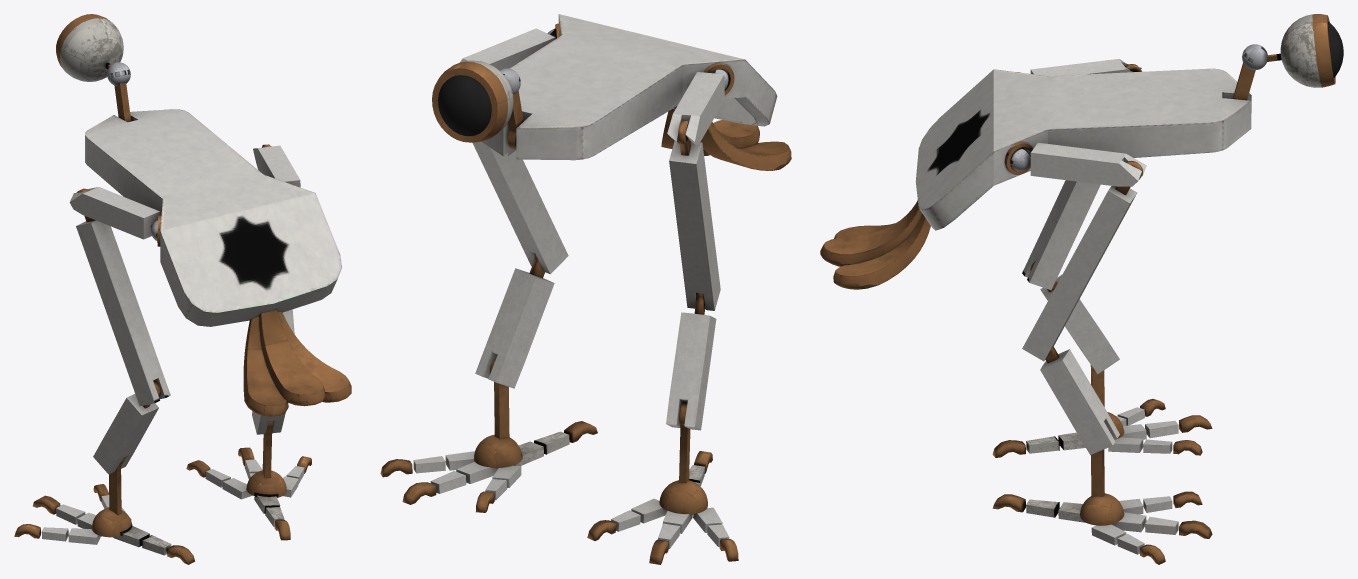
Rendered from avianAgent.fbx.
3 views of the same model, side by side, from view 1: azimuth 30°, elevation 25°; view 2: azimuth 150°, elevation 25°; view 3: azimuth 270°, elevation 25° (orthographic). The views are drawn at different scales.
Visible parts, largest first — view 1: Body, MiddleLeg_L, Foot_L, Foot_R, UpperLeg_L, LowerLeg_L, UpperLeg_R, LowerLeg_R; view 2: Body, Foot_R, Foot_L, MiddleLeg_L, LowerLeg_R, MiddleLeg_R, LowerLeg_L, UpperLeg_L, UpperLeg_R; view 3: Body, Foot_R, MiddleLeg_R, Foot_L, MiddleLeg_L, LowerLeg_R, UpperLeg_R, LowerLeg_L, UpperLeg_L.
Boxes of the visible parts, bbox=[...] form: Body: bbox=[56, 14, 351, 416]; MiddleLeg_L: bbox=[76, 188, 170, 406]; Foot_L: bbox=[14, 458, 194, 564]; Foot_R: bbox=[186, 421, 311, 540]; UpperLeg_L: bbox=[69, 187, 159, 239]; LowerLeg_L: bbox=[93, 380, 160, 474]; UpperLeg_R: bbox=[253, 145, 300, 187]; LowerLeg_R: bbox=[252, 411, 285, 434]; Body: bbox=[432, 14, 791, 170]; Foot_R: bbox=[380, 359, 597, 512]; Foot_L: bbox=[587, 402, 738, 564]; MiddleLeg_L: bbox=[669, 120, 720, 310]; LowerLeg_R: bbox=[475, 253, 554, 388]; MiddleLeg_R: bbox=[472, 141, 568, 274]; LowerLeg_L: bbox=[666, 293, 716, 430]; UpperLeg_L: bbox=[667, 72, 724, 145]; UpperLeg_R: bbox=[460, 28, 555, 70]; Body: bbox=[820, 14, 1343, 289]; Foot_R: bbox=[992, 449, 1212, 564]; MiddleLeg_R: bbox=[1022, 160, 1142, 361]; Foot_L: bbox=[992, 365, 1212, 457]; MiddleLeg_L: bbox=[1022, 64, 1141, 289]; LowerLeg_R: bbox=[1040, 346, 1119, 455]; UpperLeg_R: bbox=[1030, 142, 1146, 186]; LowerLeg_L: bbox=[1030, 262, 1119, 374]; UpperLeg_L: bbox=[1030, 59, 1141, 75].
Bounding box in the file's own units: 276 × 381 × 386.
Materials: 1 (1 with a texture image).
